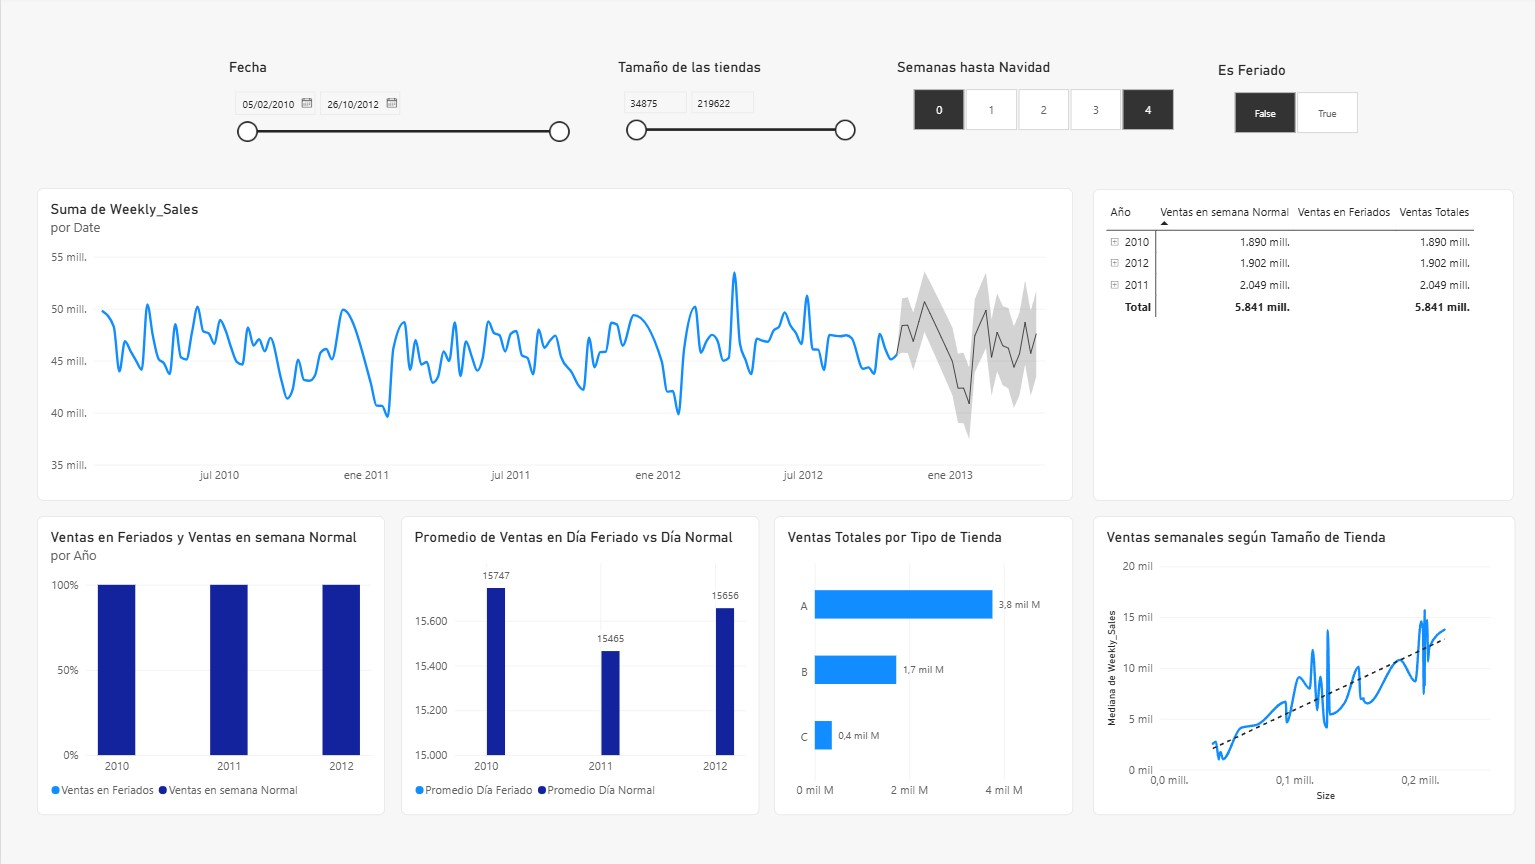

This screenshot's page, from the dashboard's own definition file:
{"tool":"powerbi","page":{"name":"Página 1","canvas":[1920,1080],"ordinal":0},"visuals":[{"type":"pivotTable","fields":{"Rows":["Calendario.Date.Variación.Jerarquía de fechas.Año","Calendario.Date.Variación.Jerarquía de fechas.Trimestre","Calendario.Date.Variación.Jerarquía de fechas.Mes","Calendario.Date.Variación.Jerarquía de fechas.Día"],"Values":["_Medidas.Ventas en semana","_Medidas.Ventas en Feriados","_Medidas.Ventas Totales"]},"box":[1302.6,237.1,525.5,389.9],"z":0},{"type":"lineChart","fields":{"Category":["Calendario.Date"],"Y":["Sum(train.Weekly_Sales)"]},"box":[72.4,237.1,1186.7,389.9],"z":1000},{"type":"clusteredBarChart","fields":{"Category":["stores.Type"],"Y":["Sum(train.Weekly_Sales)"]},"box":[1467.2,645.4,360.9,374],"z":2000},{"type":"hundredPercentStackedColumnChart","fields":{"Category":["Calendario.Date.Variación.Jerarquía de fechas.Año","Calendario.Date.Variación.Jerarquía de fechas.Trimestre","Calendario.Date.Variación.Jerarquía de fechas.Mes","Calendario.Date.Variación.Jerarquía de fechas.Día"],"Y":["_Medidas.Ventas en Feriados","_Medidas.Ventas en semana"]},"box":[72.4,645.4,426.7,374],"z":3000},{"type":"slicer","title":"Fecha","fields":{"Values":["Calendario.Date"]},"box":[284.5,72.4,429.4,122.5],"z":8000},{"type":"slicer","title":"Es Feriado","fields":{"Values":["features.IsHoliday"]},"box":[1521.2,76.4,193.6,92.2],"z":9000},{"type":"slicer","title":"Semanas hasta Navidad","fields":{"Values":["train.Weeks_Until_Christmas"]},"box":[1119.5,72.4,364.8,92.2],"z":10000},{"type":"slicer","title":"Tamaño de las tiendas","fields":{"Values":["stores.Size"]},"box":[771.8,72.4,300.3,126.4],"z":10002},{"type":"lineChart","title":"Ventas semanales según Tamaño de Tienda","fields":{"Category":["stores.Size"],"Y":["Median(train.Weekly_Sales)"]},"box":[910.1,645.4,528.1,374],"z":10003},{"type":"lineClusteredColumnComboChart","fields":{"Category":["Calendario.Date.Variación.Jerarquía de fechas.Año"],"Y":["_Medidas.Promedio Día Feriado","_Medidas.Promedio Día Normal"]},"box":[528.1,645.4,362.2,374],"z":10004}]}

Visuals, with their boxes in screenshot pixels (x1, y1, x2, y2), scaled from the page's 1920x1080 canvas onto the 1535x864 screenshot:
pivotTable - Calendario.Date.Variación.Jerarquía de fechas.Año x Calendario.Date.Variación.Jerarquía de fechas.Trimestre: x1=1041, y1=190, x2=1462, y2=502
lineChart - Calendario.Date x Sum(train.Weekly_Sales): x1=58, y1=190, x2=1007, y2=502
clusteredBarChart - stores.Type x Sum(train.Weekly_Sales): x1=1173, y1=516, x2=1462, y2=816
hundredPercentStackedColumnChart - Calendario.Date.Variación.Jerarquía de fechas.Año x Calendario.Date.Variación.Jerarquía de fechas.Trimestre: x1=58, y1=516, x2=399, y2=816
"Fecha" slicer: x1=227, y1=58, x2=571, y2=156
"Es Feriado" slicer: x1=1216, y1=61, x2=1371, y2=135
"Semanas hasta Navidad" slicer: x1=895, y1=58, x2=1187, y2=132
"Tamaño de las tiendas" slicer: x1=617, y1=58, x2=857, y2=159
"Ventas semanales según Tamaño de Tienda" lineChart: x1=728, y1=516, x2=1150, y2=816
lineClusteredColumnComboChart - Calendario.Date.Variación.Jerarquía de fechas.Año x _Medidas.Promedio Día Feriado: x1=422, y1=516, x2=712, y2=816
